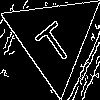T: (28, 12, 77, 68)
